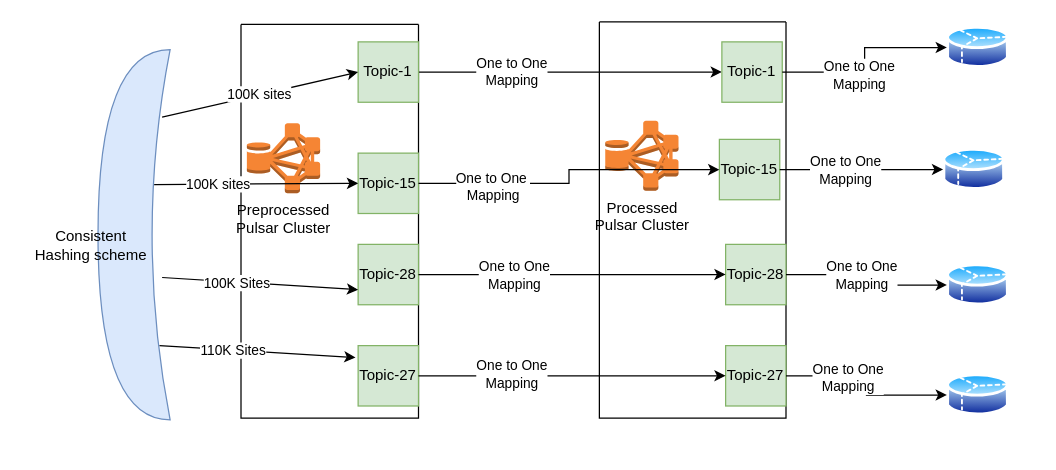
Some shapes in this 1056 by 470 pixel diagram are drawn without their labels. Each missing label, with the box of its shape:
Timescale DB-1: (946, 24, 1009, 70)
Timescale DB-15: (942, 146, 1005, 192)
Timescale DB-27: (946, 371, 1009, 418)
Timescale DB-28: (946, 261, 1009, 308)
